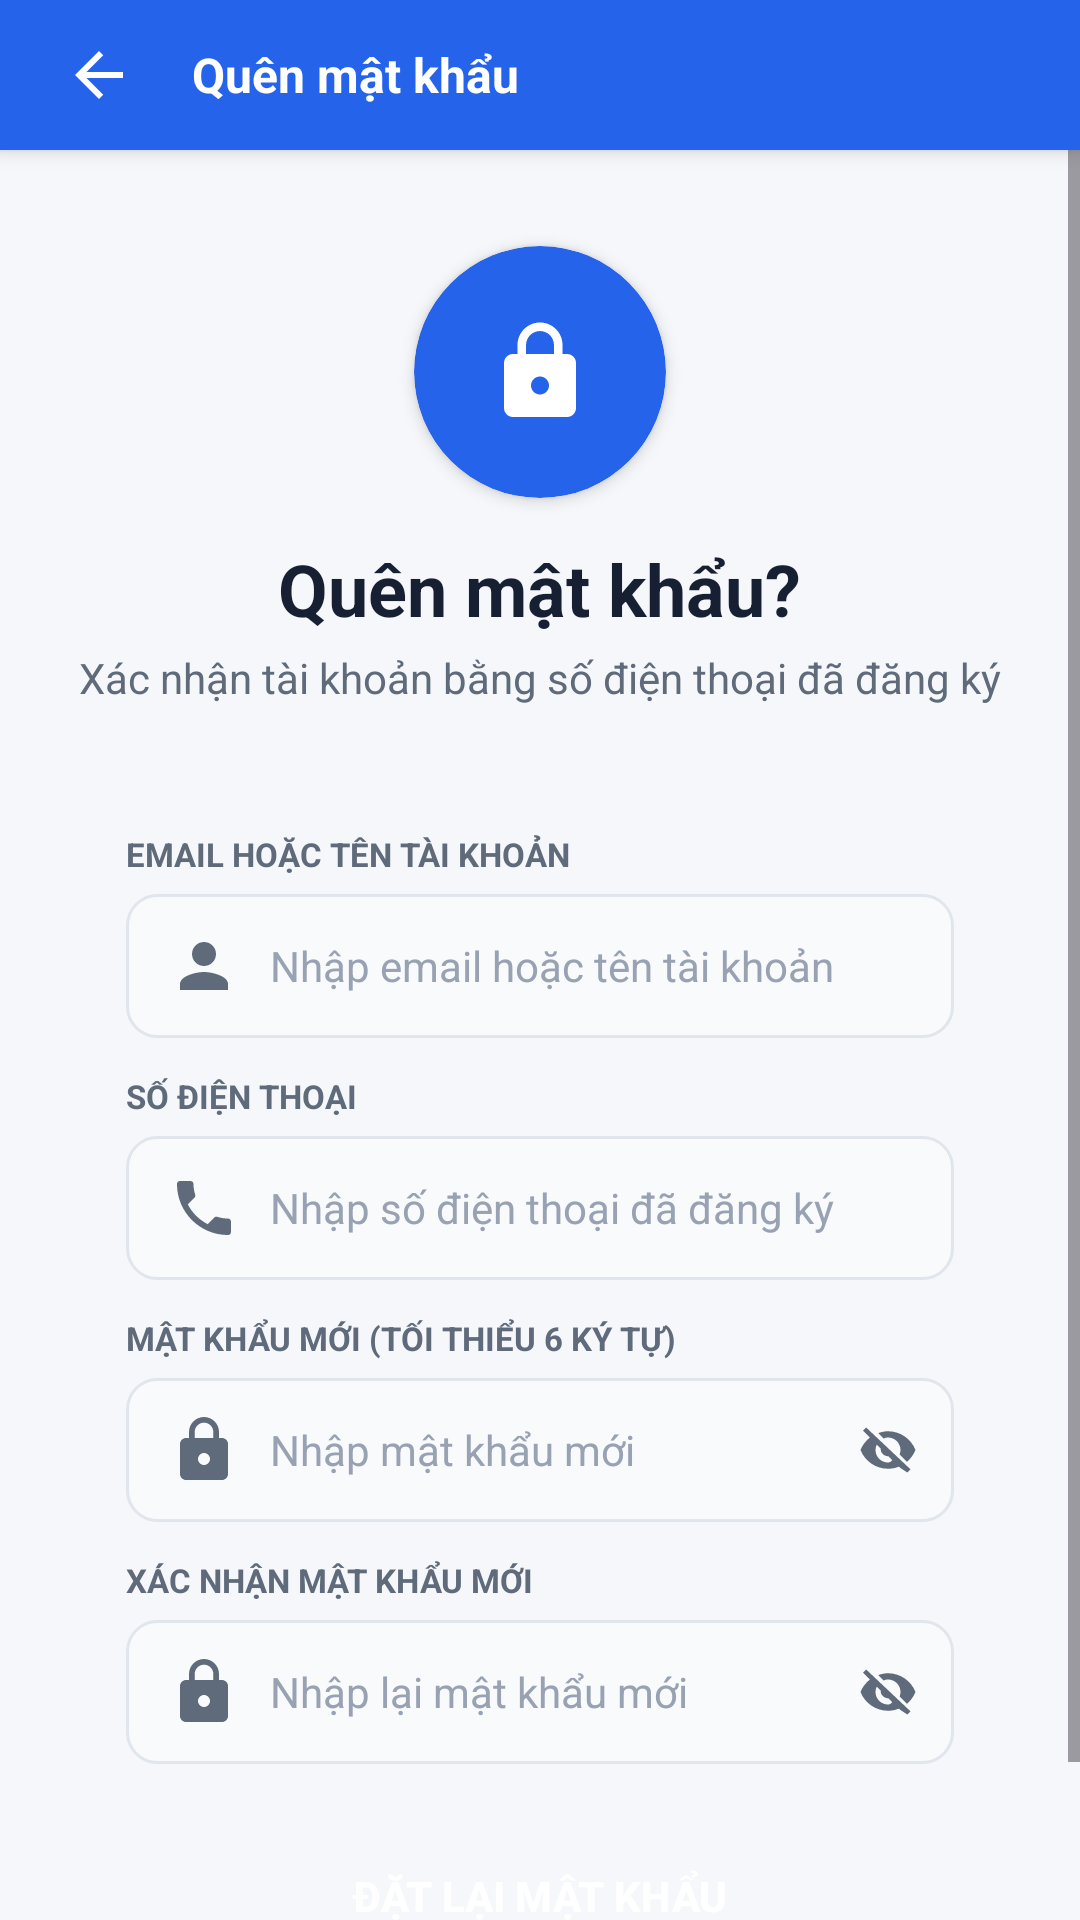

Named icons in this screenshot (1080 x 1920) and their centers, (x,y):
Hiện mật khẩu: (888,1450), (888,1692)
